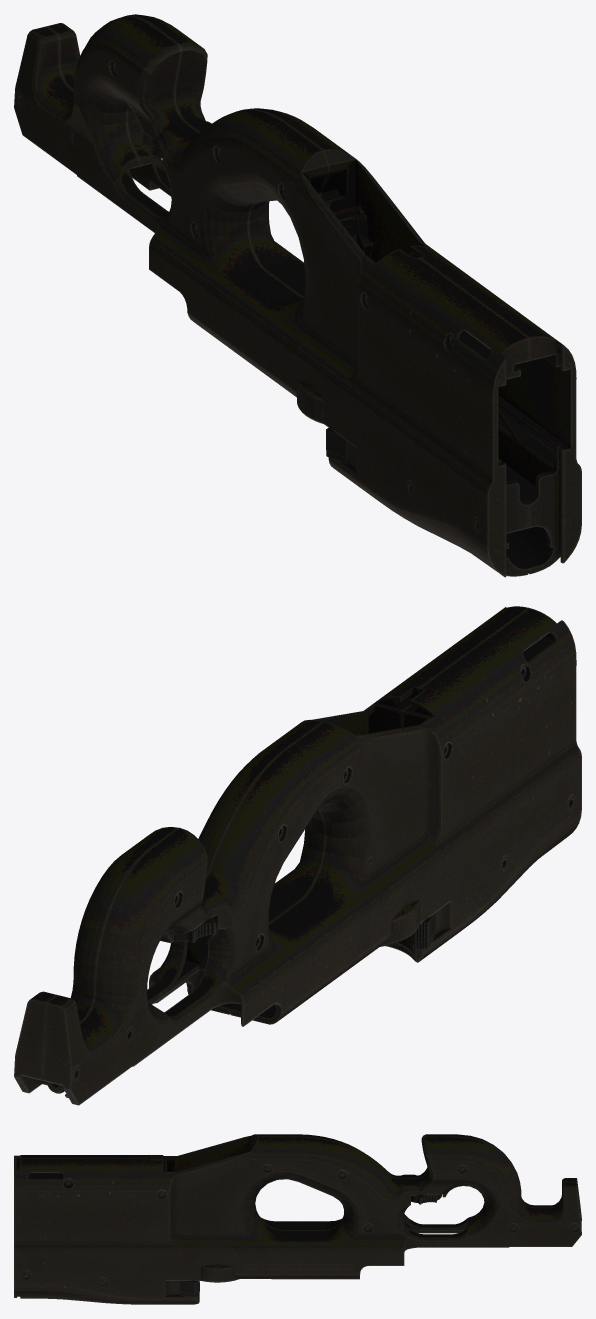
The picture shows the model from 3 angles, top to bottom: view 1: azimuth 30°, elevation 25°; view 2: azimuth 150°, elevation 25°; view 3: azimuth 270°, elevation 25°; orthographic projection. The views are drawn at different scales.
Parts seen in each view (by area): view 1: TW_5cebec10d7f00c065703d185_PZ_Import; view 2: TW_5cebec10d7f00c065703d185_PZ_Import; view 3: TW_5cebec10d7f00c065703d185_PZ_Import.
Boxes of the visible parts, x1,y1,x2,y2 form: TW_5cebec10d7f00c065703d185_PZ_Import: (14, 14, 581, 577); TW_5cebec10d7f00c065703d185_PZ_Import: (14, 606, 581, 1105); TW_5cebec10d7f00c065703d185_PZ_Import: (14, 1134, 581, 1304).
Bounding box in the file's own units: 0.0328 × 0.2622 × 0.0804.
Materials: 1 (1 with a texture image).
